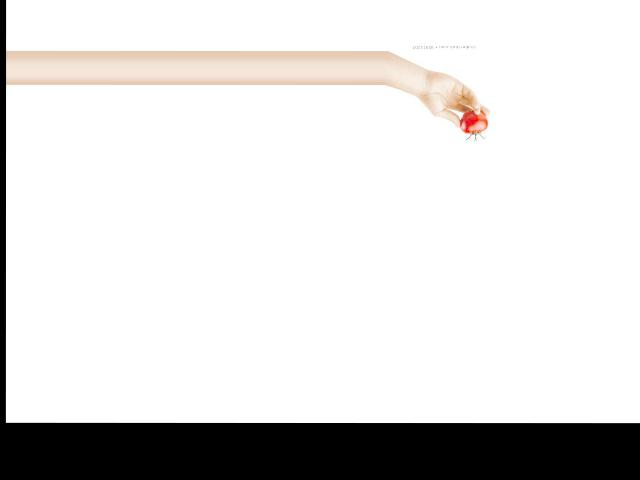tomato: (459, 109, 487, 133)
